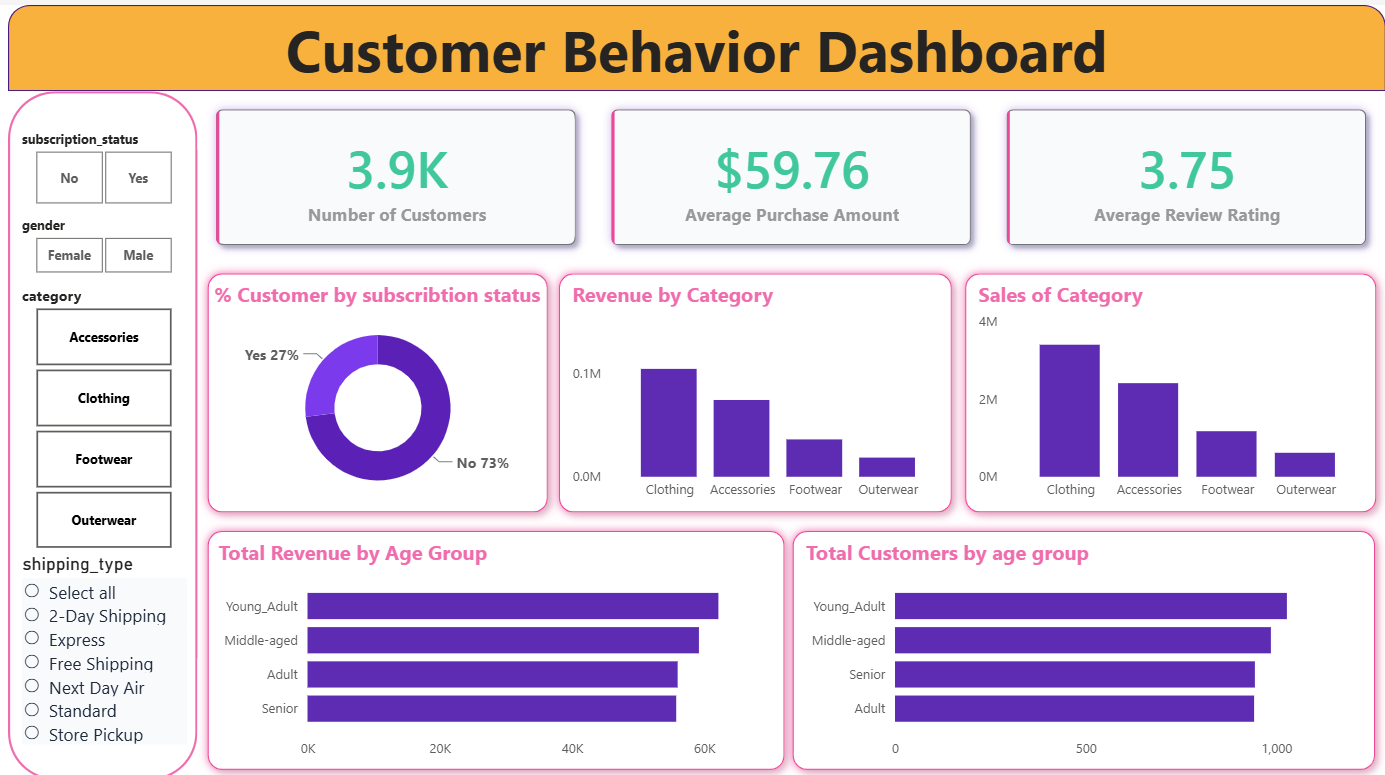

Layout of this report page (visuals, bound fields, positions):
{"tool":"powerbi","page":{"name":"Customer_Behavior_analysis","canvas":[1280,720],"ordinal":0},"visuals":[{"type":"cardVisual","fields":{"Data":["customer_behavior customer.Number of Customers","customer_behavior customer.Average Purchase Amount","customer_behavior customer.Average Review Rating"]},"box":[176,80,1104,160],"z":0},{"type":"shape","box":[0,0,1280,80],"z":1000},{"type":"textbox","box":[0,0,1280,96],"z":2000},{"type":"shape","box":[176,240,334,240],"z":3000},{"type":"donutChart","title":"%  Customer by subscribtion status","fields":{"Category":["customer_behavior customer.subscription_status"],"Y":["CountNonNull(customer_behavior customer.customer_id)"]},"box":[192,256,304,208],"z":4000},{"type":"shape","box":[503,240,383,240],"z":5000},{"type":"shape","box":[880,240,400,240],"z":6000},{"type":"shape","box":[0,80,176,640],"z":7000},{"type":"columnChart","title":"Revenue by Category","fields":{"Y":["Sum(customer_behavior customer.purchase_amount)"],"Category":["customer_behavior customer.category"]},"box":[519,256,353,208],"z":8000},{"type":"shape","box":[176,480,554,240],"z":9000},{"type":"columnChart","title":"Sales of Category","fields":{"Y":["Sum(customer_behavior customer.customer_id)"],"Category":["customer_behavior customer.category"]},"box":[896,256,368,208],"z":10000},{"type":"slicer","fields":{"Values":["customer_behavior customer.subscription_status"]},"box":[0,112,176,80],"z":11000},{"type":"slicer","fields":{"Values":["customer_behavior customer.gender"]},"box":[0,192,176,64],"z":12000},{"type":"slicer","fields":{"Values":["customer_behavior customer.category"]},"box":[0,256,176,256],"z":13000},{"type":"listSlicer","fields":{"Values":["customer_behavior customer.shipping_type"]},"box":[8,509,163,208],"z":14000},{"type":"shape","box":[720,480,559,240],"z":16000},{"type":"clusteredBarChart","title":"Total Revenue by Age Group","fields":{"Category":["customer_behavior customer.age_group"],"Y":["Sum(customer_behavior customer.purchase_amount)"]},"box":[190,496,528,208],"z":17001},{"type":"clusteredBarChart","title":"Total Customers by age group","fields":{"Category":["customer_behavior customer.age_group"],"Y":["CountNonNull(customer_behavior customer.customer_id)"]},"box":[736,496,528,208],"z":17002}]}

Visuals, with their boxes in screenshot pixels (x1, y1, x2, y2), scaled from the page's 1280x720 canvas onto the 1385x775 screenshot:
cardVisual - customer_behavior customer.Number of Customers x customer_behavior customer.Average Purchase Amount: [190,86,1384,258]
shape: [0,0,1384,86]
textbox: [0,0,1384,103]
shape: [190,258,552,517]
"%  Customer by subscribtion status" donutChart: [208,276,537,499]
shape: [544,258,959,517]
shape: [952,258,1384,517]
shape: [0,86,190,774]
"Revenue by Category" columnChart: [562,276,944,499]
shape: [190,517,790,774]
"Sales of Category" columnChart: [970,276,1368,499]
slicer - customer_behavior customer.subscription_status: [0,121,190,207]
slicer - customer_behavior customer.gender: [0,207,190,276]
slicer - customer_behavior customer.category: [0,276,190,551]
listSlicer - customer_behavior customer.shipping_type: [9,548,185,772]
shape: [779,517,1384,774]
"Total Revenue by Age Group" clusteredBarChart: [206,534,777,758]
"Total Customers by age group" clusteredBarChart: [796,534,1368,758]
